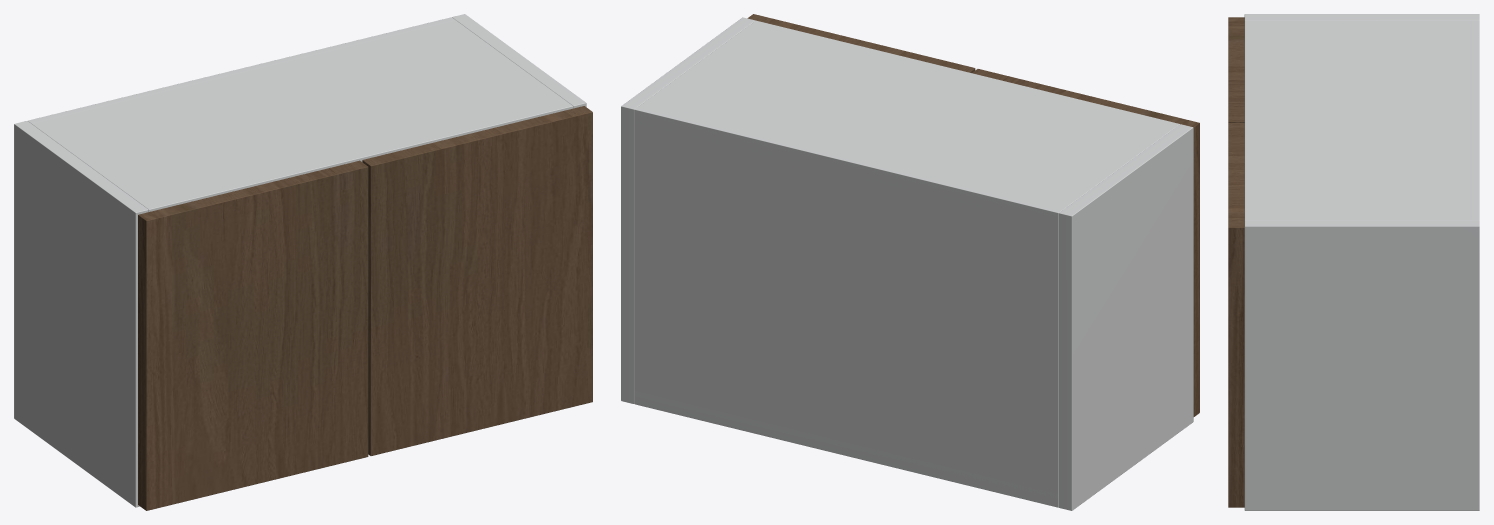
Rendered from oppein-pb-mso-w2415.glb.
The picture shows the model from 3 angles, left to right: view 1: azimuth 30°, elevation 25°; view 2: azimuth 150°, elevation 25°; view 3: azimuth 270°, elevation 25°; orthographic projection. The views are drawn at different scales.
Parts seen in each view (by area): view 1: Door, Door.001, Cabinet top, Cabinet side, Cabinet back, Cabinet side.001; view 2: Cabinet back, Cabinet top, Cabinet side, Cabinet side.001, Cabinet bottom, Door, Door.001; view 3: Cabinet side.001, Cabinet top, Door.001, Cabinet back, Door, Cabinet side.
Part boxes in pixels (x1,y1,x2,y2): Door: (138, 160, 368, 510); Door.001: (362, 106, 592, 455); Cabinet top: (28, 20, 573, 211); Cabinet side: (14, 121, 148, 507); Cabinet back: (28, 17, 455, 123); Cabinet side.001: (452, 14, 586, 108); Cabinet back: (634, 106, 1062, 507); Cabinet top: (634, 20, 1179, 225); Cabinet side: (1059, 124, 1193, 510); Cabinet side.001: (621, 17, 755, 403); Cabinet bottom: (634, 391, 1057, 507); Door: (972, 69, 1199, 416); Door.001: (747, 14, 975, 72); Cabinet side.001: (1244, 220, 1479, 510); Cabinet top: (1244, 20, 1479, 220); Door.001: (1228, 123, 1244, 507); Cabinet back: (1470, 20, 1479, 220); Door: (1228, 17, 1244, 122); Cabinet side: (1244, 14, 1479, 20).
Bounding box in the file's own units: 0.6096 × 0.381 × 0.3048.
Materials: 2 (1 with a texture image).
